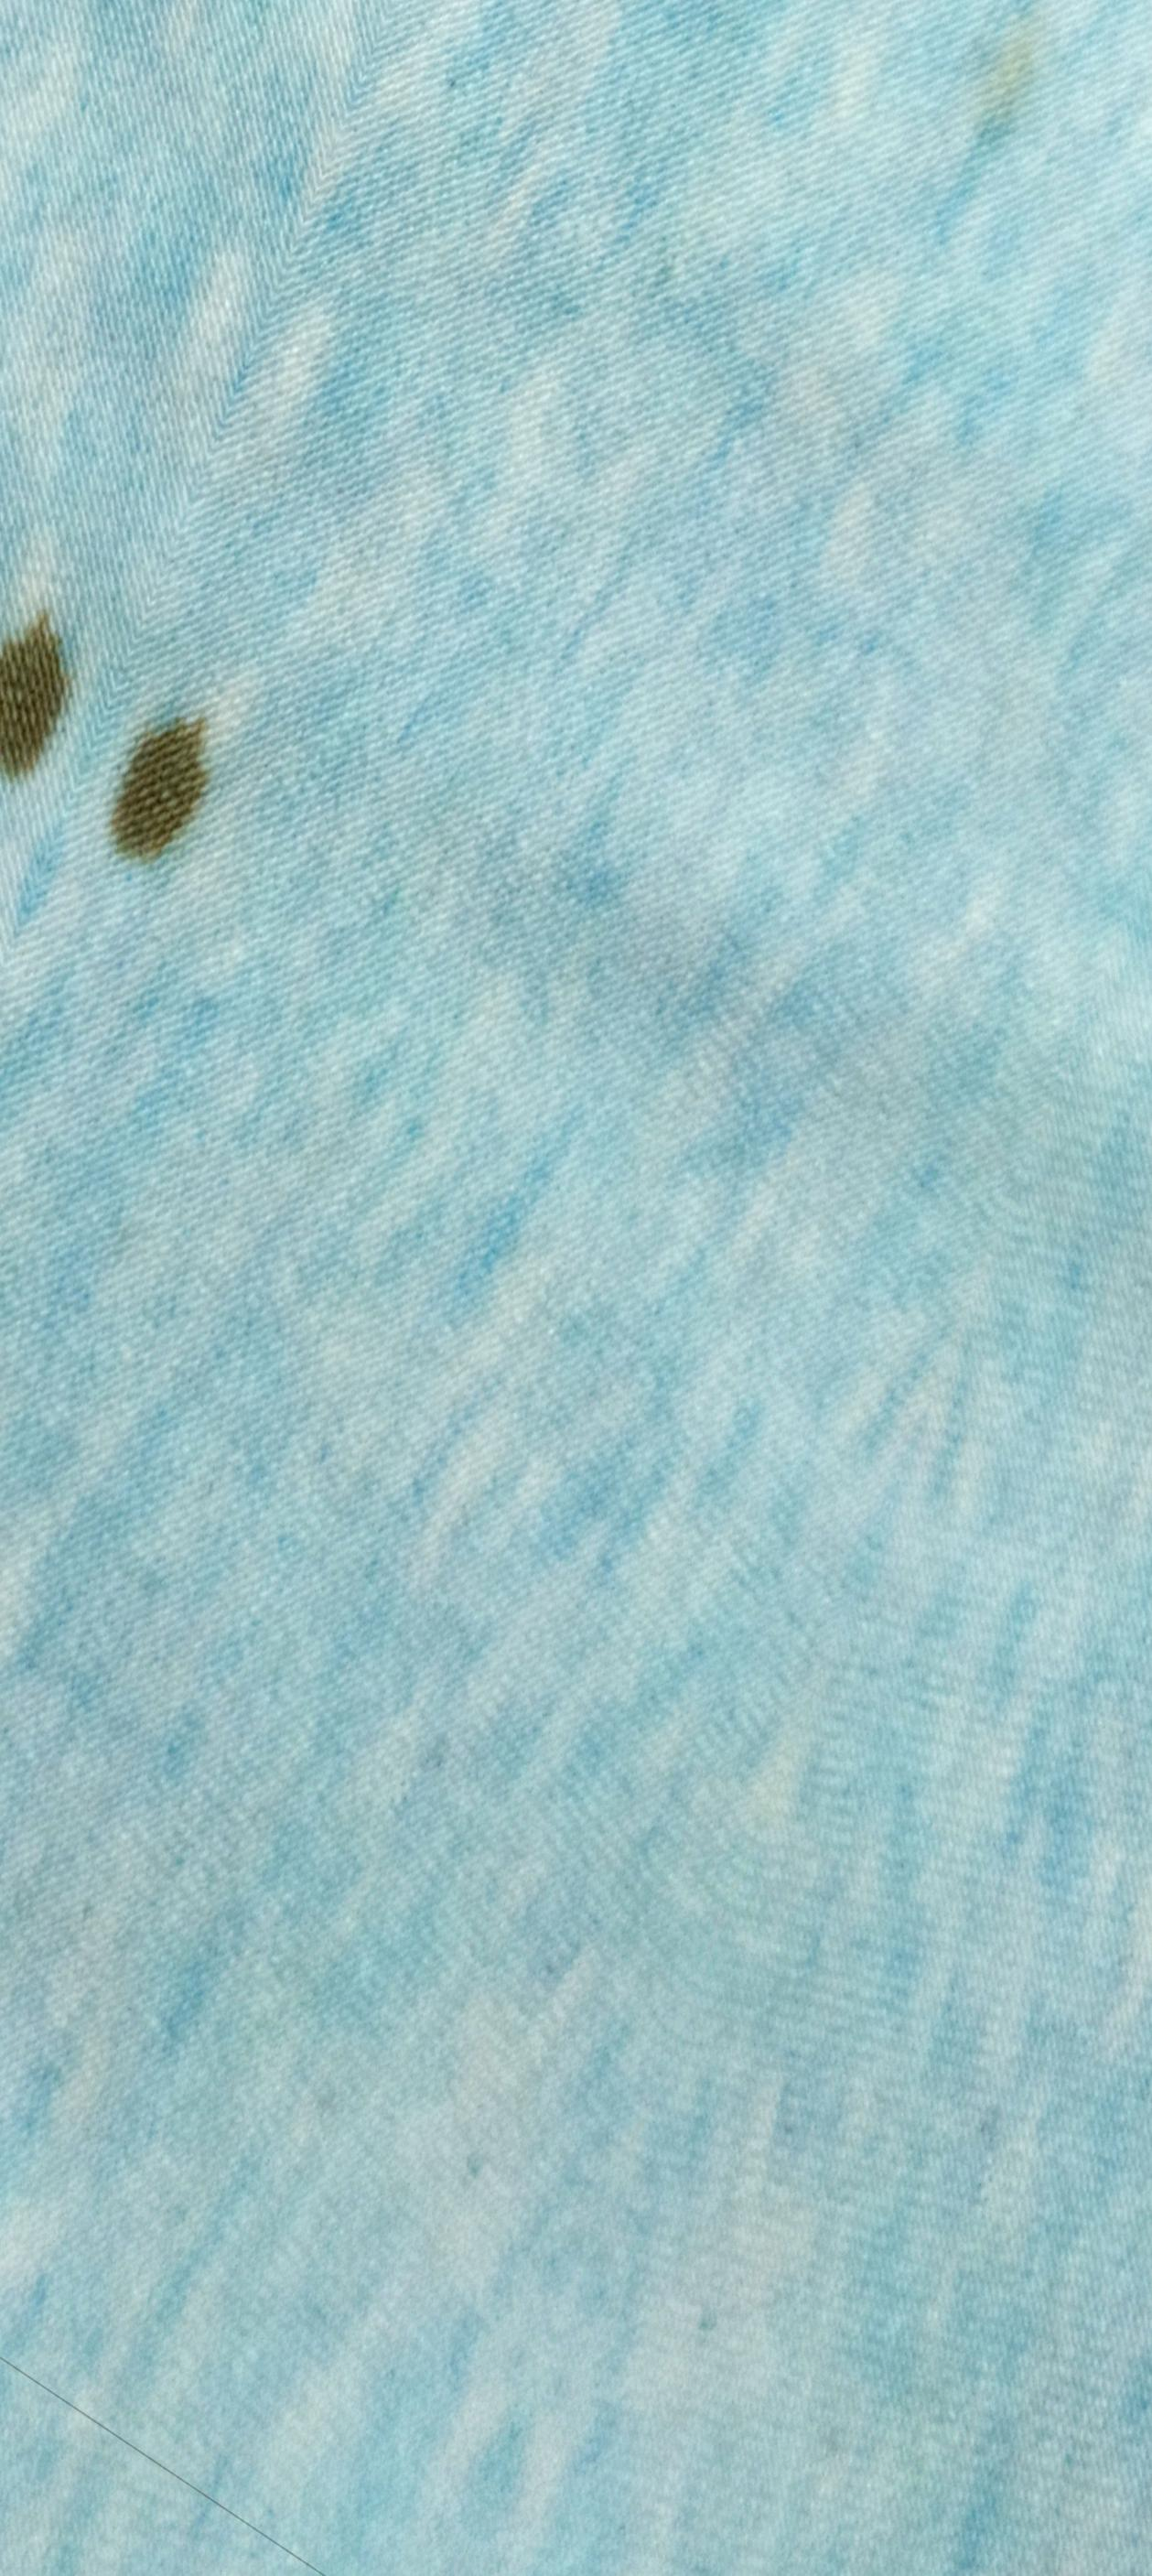stain: (99, 680, 276, 895), (5, 562, 74, 816)
